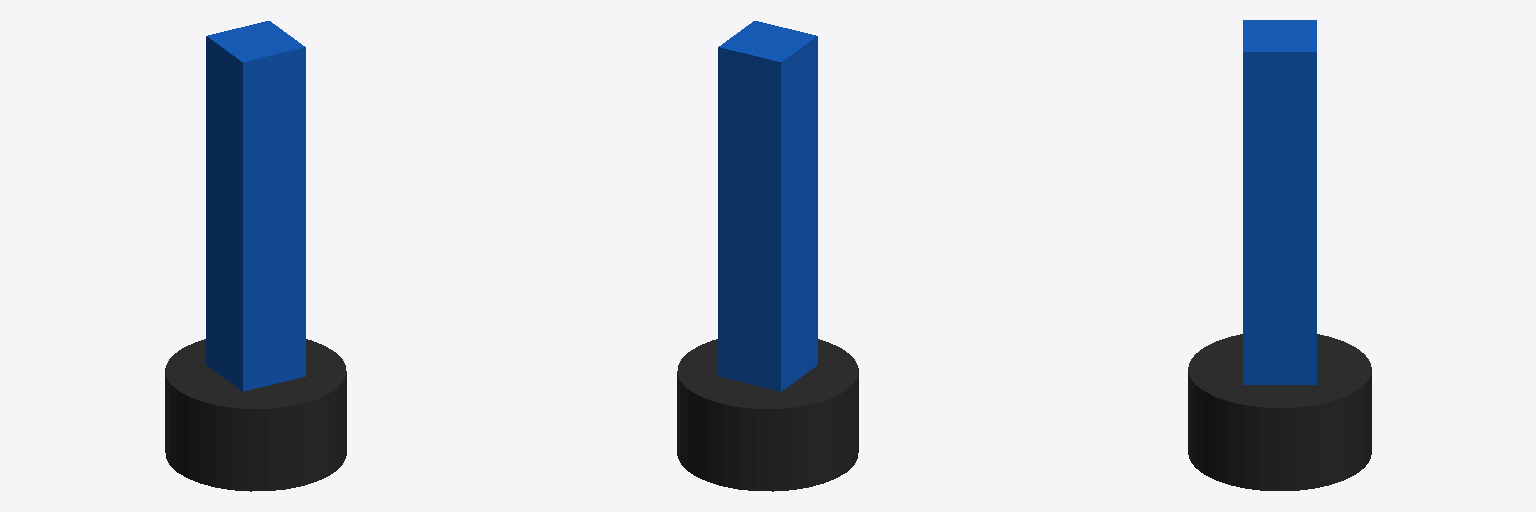
robot.urdf — devotics_arm:
<?xml version="1.0"?>
<robot name="devotics_arm">
    <link name="base_link">
        <visual>
            <origin xyz="0 0 0.05" rpy="0 0 0"/>
            <geometry>
                <cylinder radius="0.10" length="0.10"/>
            </geometry>
            <material name="base_color">
                <color rgba="0.2 0.2 0.2 1"/>
            </material>
        </visual>
    </link>
    <link name="arm_link">
        <visual>
            <origin xyz="0 0 0.20" rpy="0 0 0"/>
            <geometry>
                <box size="0.08 0.08 0.40"/>
            </geometry>
            <material name="arm_color">
                <color rgba="0.1 0.4 0.8 1"/>
            </material>
        </visual>
    </link>
    <joint name="joint1" type="revolute">
        <parent link="base_link"/>
        <child link="arm_link"/>
        <origin xyz="0 0 0.10" rpy="0 0 0"/>
        <axis xyz="0 1 0"/>
        <limit
            lower="-1.57"
            upper="1.57"
            effort="10"
            velocity="1.0"
        />
    </joint>
</robot>

--- Facts derived from the render (not from the file) ---
Views: 3 orthographic renders of the robot side by side, from view 1: azimuth 30°, elevation 25°; view 2: azimuth 150°, elevation 25°; view 3: azimuth 270°, elevation 25°.
Robot: devotics_arm — 2 links, 1 joints (1 revolute); root link base_link; default pose: all joints at 0.
Visible links, largest first — view 1: arm_link, base_link; view 2: arm_link, base_link; view 3: arm_link, base_link.
Boxes of the visible links, x1,y1,x2,y2 form: arm_link: (206, 21, 305, 391); base_link: (165, 339, 346, 491); arm_link: (718, 21, 817, 391); base_link: (677, 339, 858, 491); arm_link: (1243, 20, 1316, 384); base_link: (1188, 334, 1371, 490).
Bounding box of the posed robot: 0.2 × 0.2 × 0.5 m (x, y, z).
Geometry: primitives only (box / cylinder / sphere), no mesh files.
